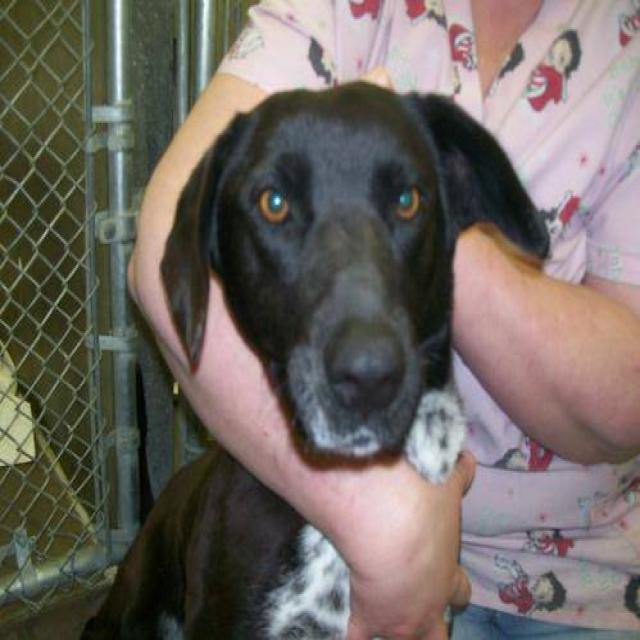dog: (72, 79, 551, 638)
